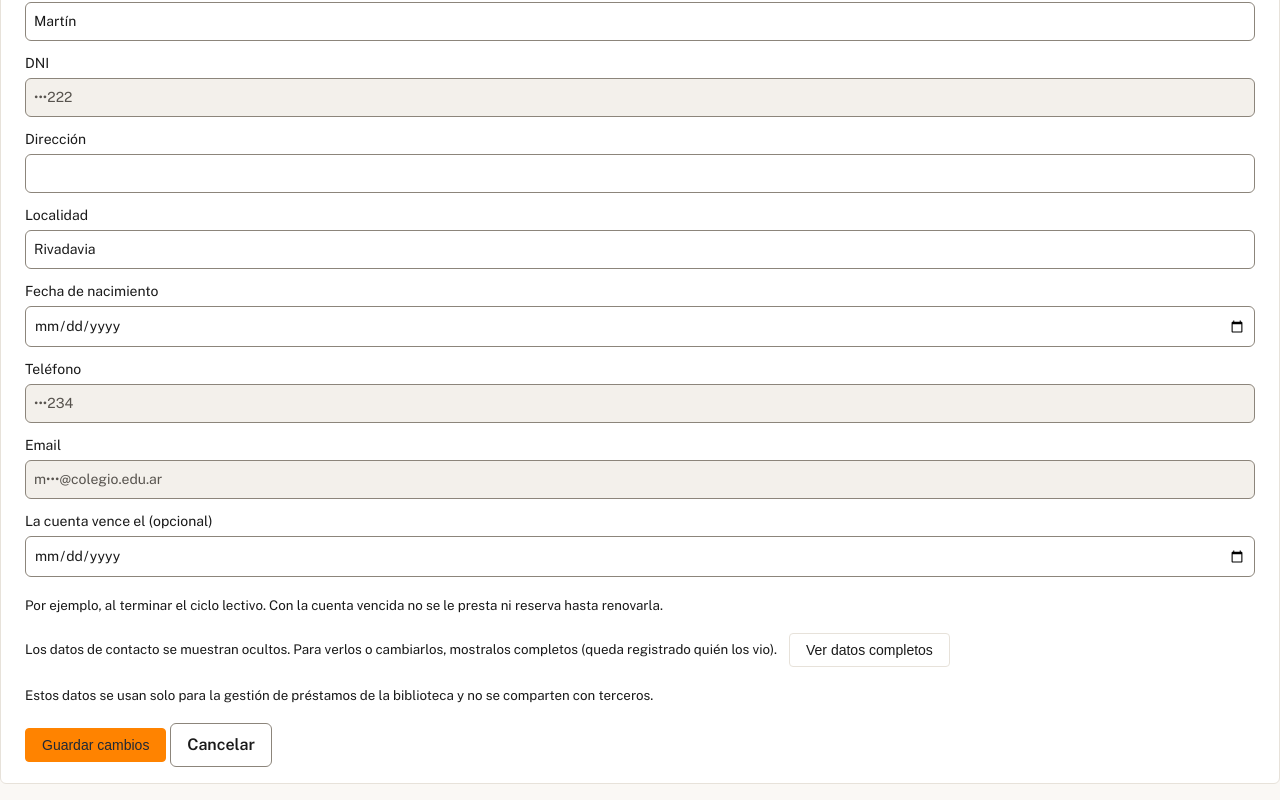
Test: FormularioSocio: alta y edición, solos en su pantalla › al editar, el contacto se ve oculto y de solo lectura hasta pedir verlo completo
(page scrolled)
Expected: the field labelled "DNI" holds "•••222", x1=25 y1=78 x2=1255 y2=117
Click the button "Ver datos completos" at (869, 650), box x1=789 y1=633 x2=950 y2=667
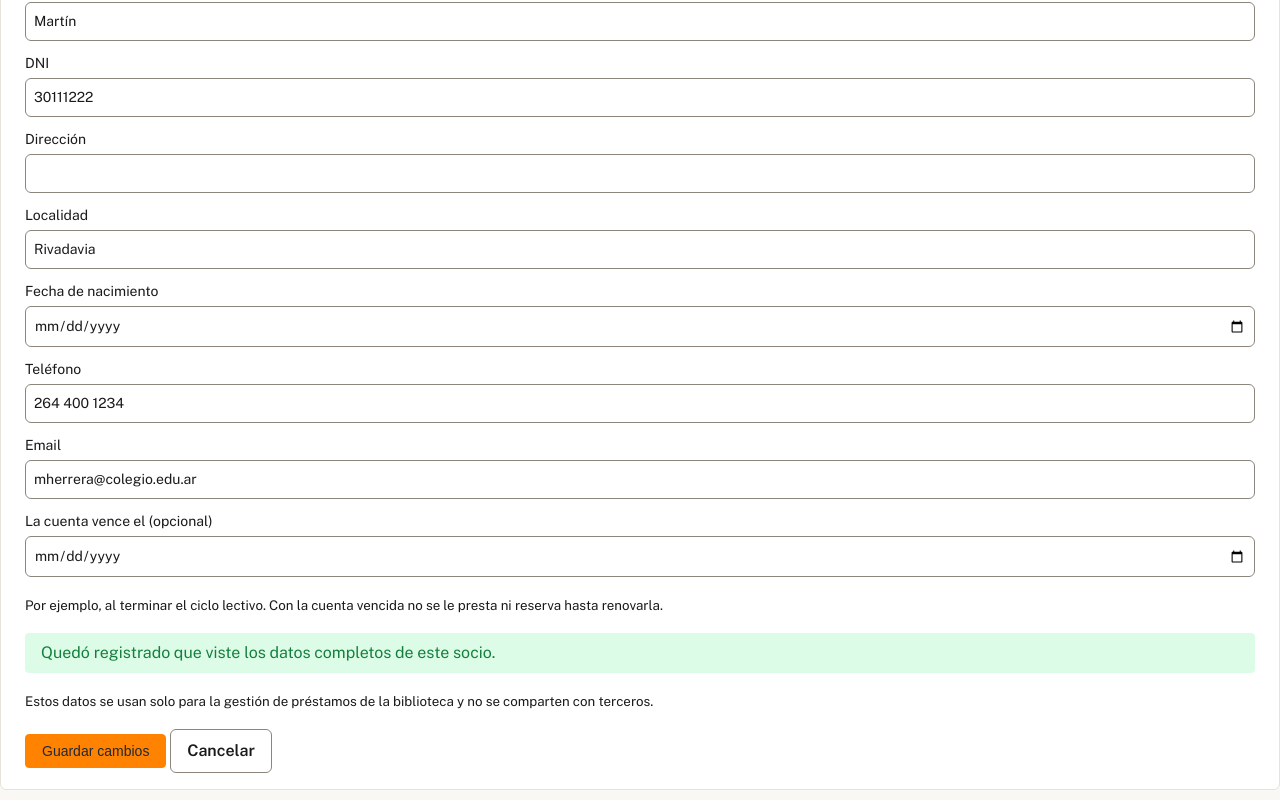
Now the text "Quedó registrado que viste los datos completos de este socio." is shown, box x1=25 y1=633 x2=1255 y2=673
